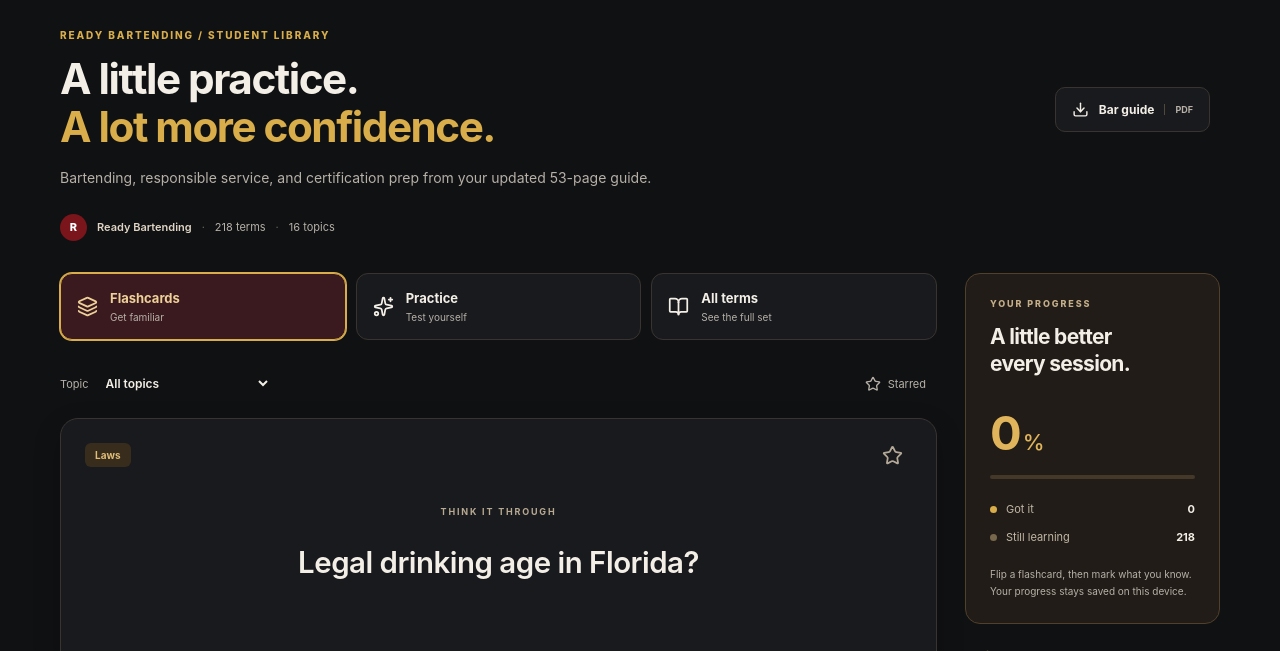
real age questions show ages only and grade the right age after shuffling
Click the button "Practice Test yourself". click: (432, 298)
box: [356,272,641,340]
(page scrolled)
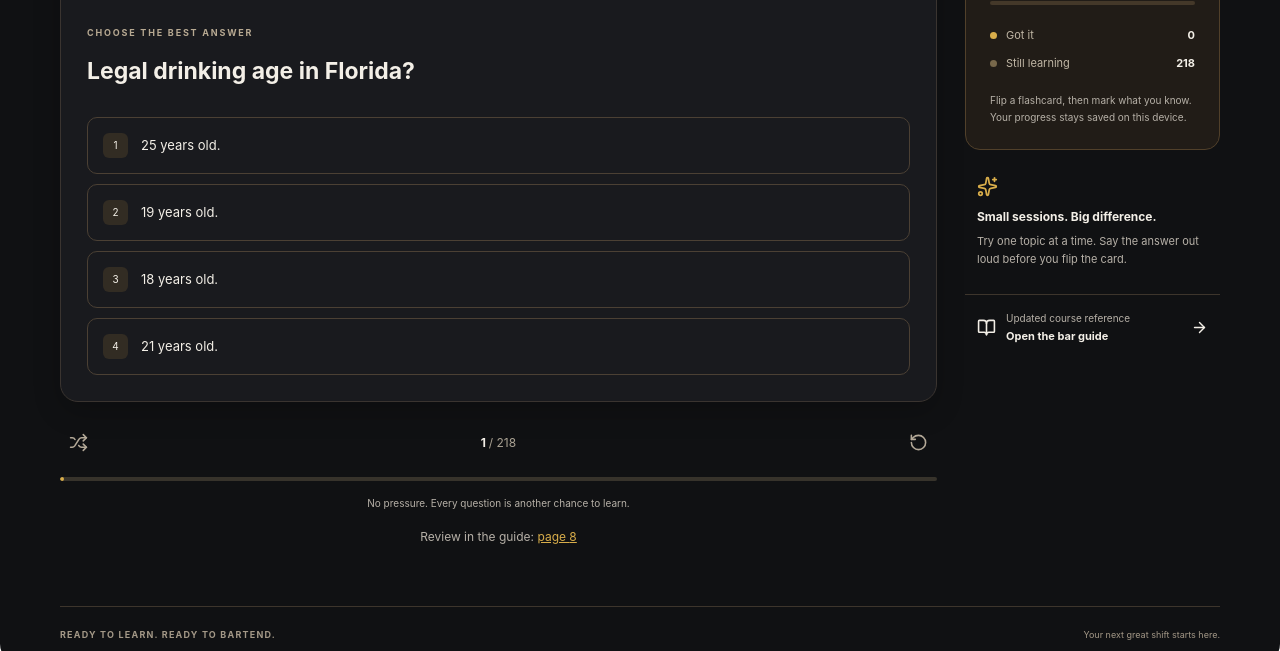
Now the button "1 25 years old." is shown, box [87,117,910,174]
Now the button "2 19 years old." is shown, box [87,184,910,241]
Now the button "3 18 years old." is shown, box [87,251,910,308]
Click the button "4 21 years old.". click: (180, 346)
box: [87,318,910,375]
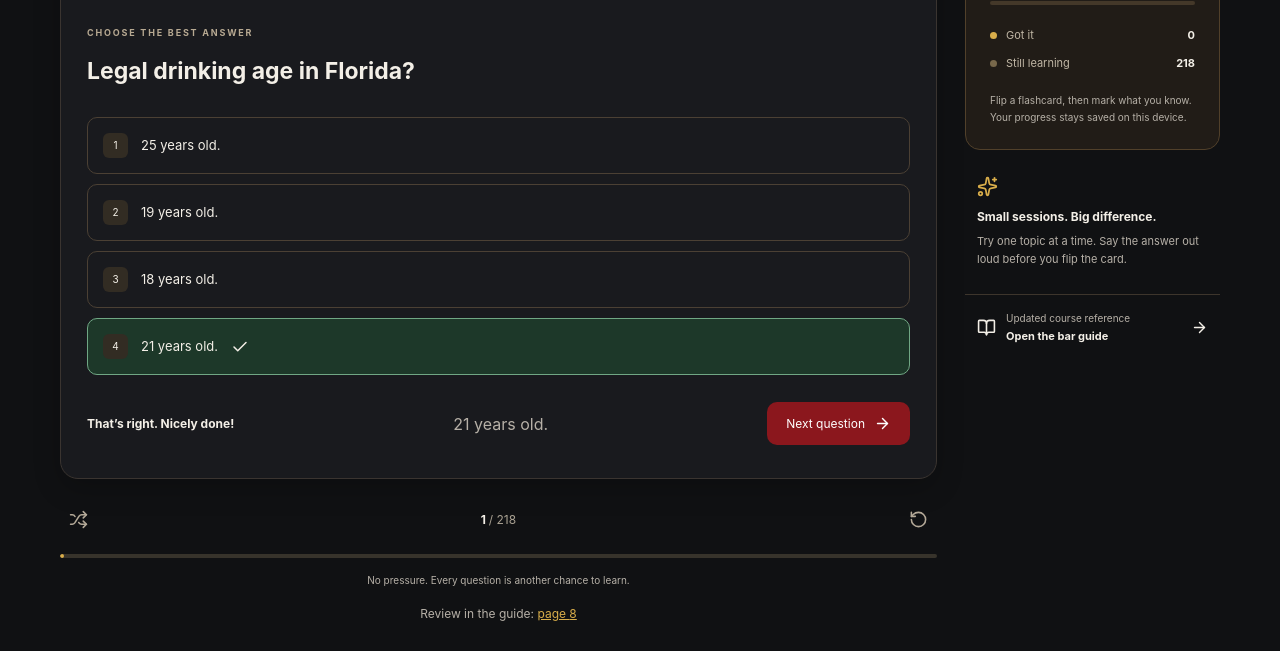
Now the text "That’s right. Nicely done!" is shown, box [87,416,234,431]
Click the button "Next question". click: (839, 424)
box: [767,402,910,445]
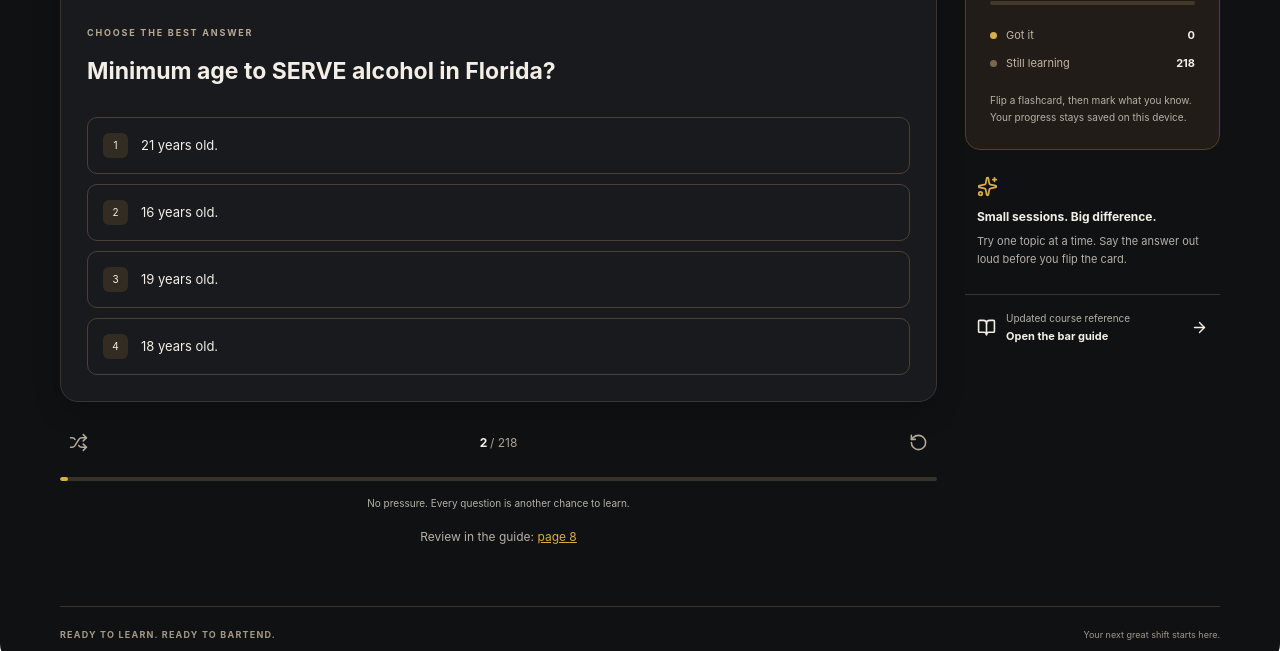
Now the heading "Minimum age to SERVE alcohol in Florida?" is shown, box [87,56,556,84]
Now the button "1 21 years old." is shown, box [87,117,910,174]
Now the button "2 16 years old." is shown, box [87,184,910,241]
Click the button "4 18 years old.". click: (180, 346)
box: [87,318,910,375]
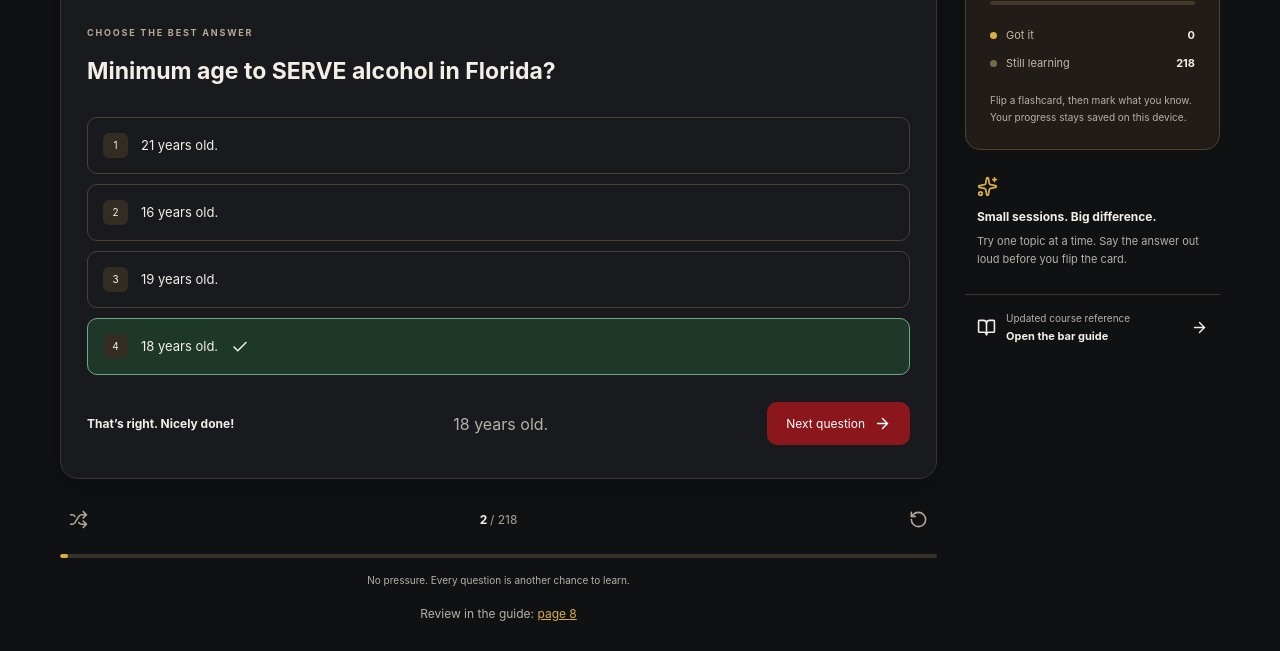
Now the text "That’s right. Nicely done!" is shown, box [87,416,234,431]
